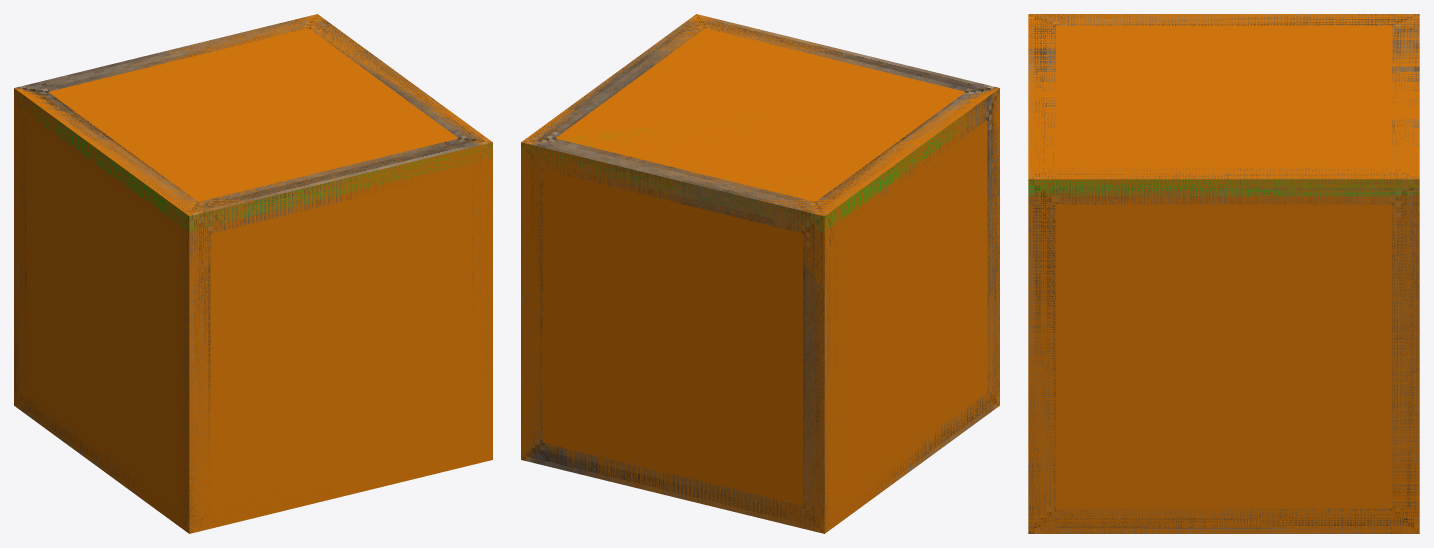
Rendered from prop_crate.glb.
3 renders of one model, left to right at view 1: azimuth 30°, elevation 25°; view 2: azimuth 150°, elevation 25°; view 3: azimuth 270°, elevation 25°, orthographic. The views are drawn at different scales.
Parts seen in each view (by area): view 1: _Crate_1_Wall, _Crate_0_Mesh, _Crate_2_Floor; view 2: _Crate_1_Wall, _Crate_0_Mesh, _Crate_2_Floor; view 3: _Crate_1_Wall, _Crate_0_Mesh, _Crate_2_Floor.
Boxes of the visible parts, x1=… form: _Crate_1_Wall: x1=14, y1=14, x2=492, y2=533; _Crate_0_Mesh: x1=14, y1=14, x2=492, y2=532; _Crate_2_Floor: x1=20, y1=96, x2=492, y2=231; _Crate_1_Wall: x1=521, y1=14, x2=999, y2=533; _Crate_0_Mesh: x1=521, y1=14, x2=999, y2=533; _Crate_2_Floor: x1=521, y1=102, x2=981, y2=231; _Crate_1_Wall: x1=1028, y1=14, x2=1419, y2=533; _Crate_0_Mesh: x1=1028, y1=14, x2=1419, y2=533; _Crate_2_Floor: x1=1028, y1=179, x2=1419, y2=196.
Bounding box in the file's own units: 1 × 1 × 1.
3 materials, 1 textured.
